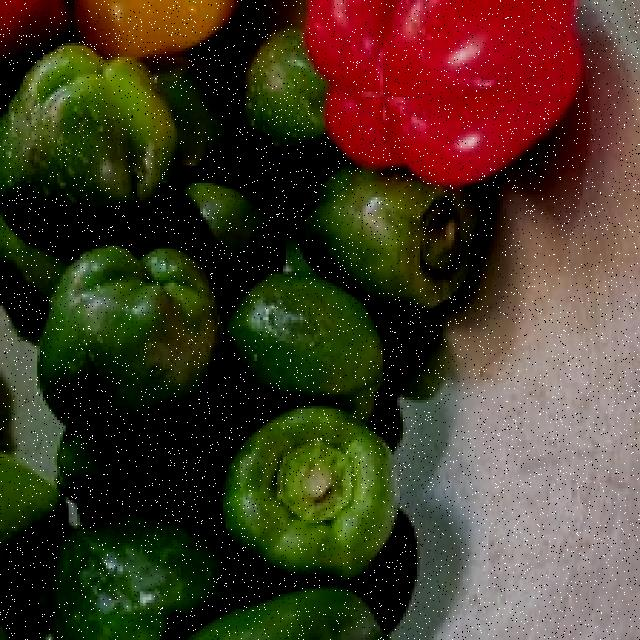Bell Pepper: (278, 3, 640, 187), (9, 217, 246, 452), (4, 25, 196, 259), (235, 242, 408, 407)
